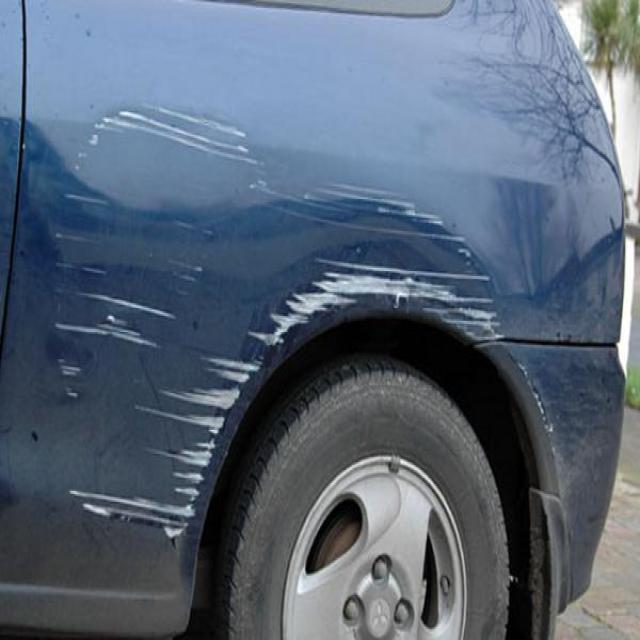scratch: (39, 97, 277, 554), (285, 172, 526, 366)
